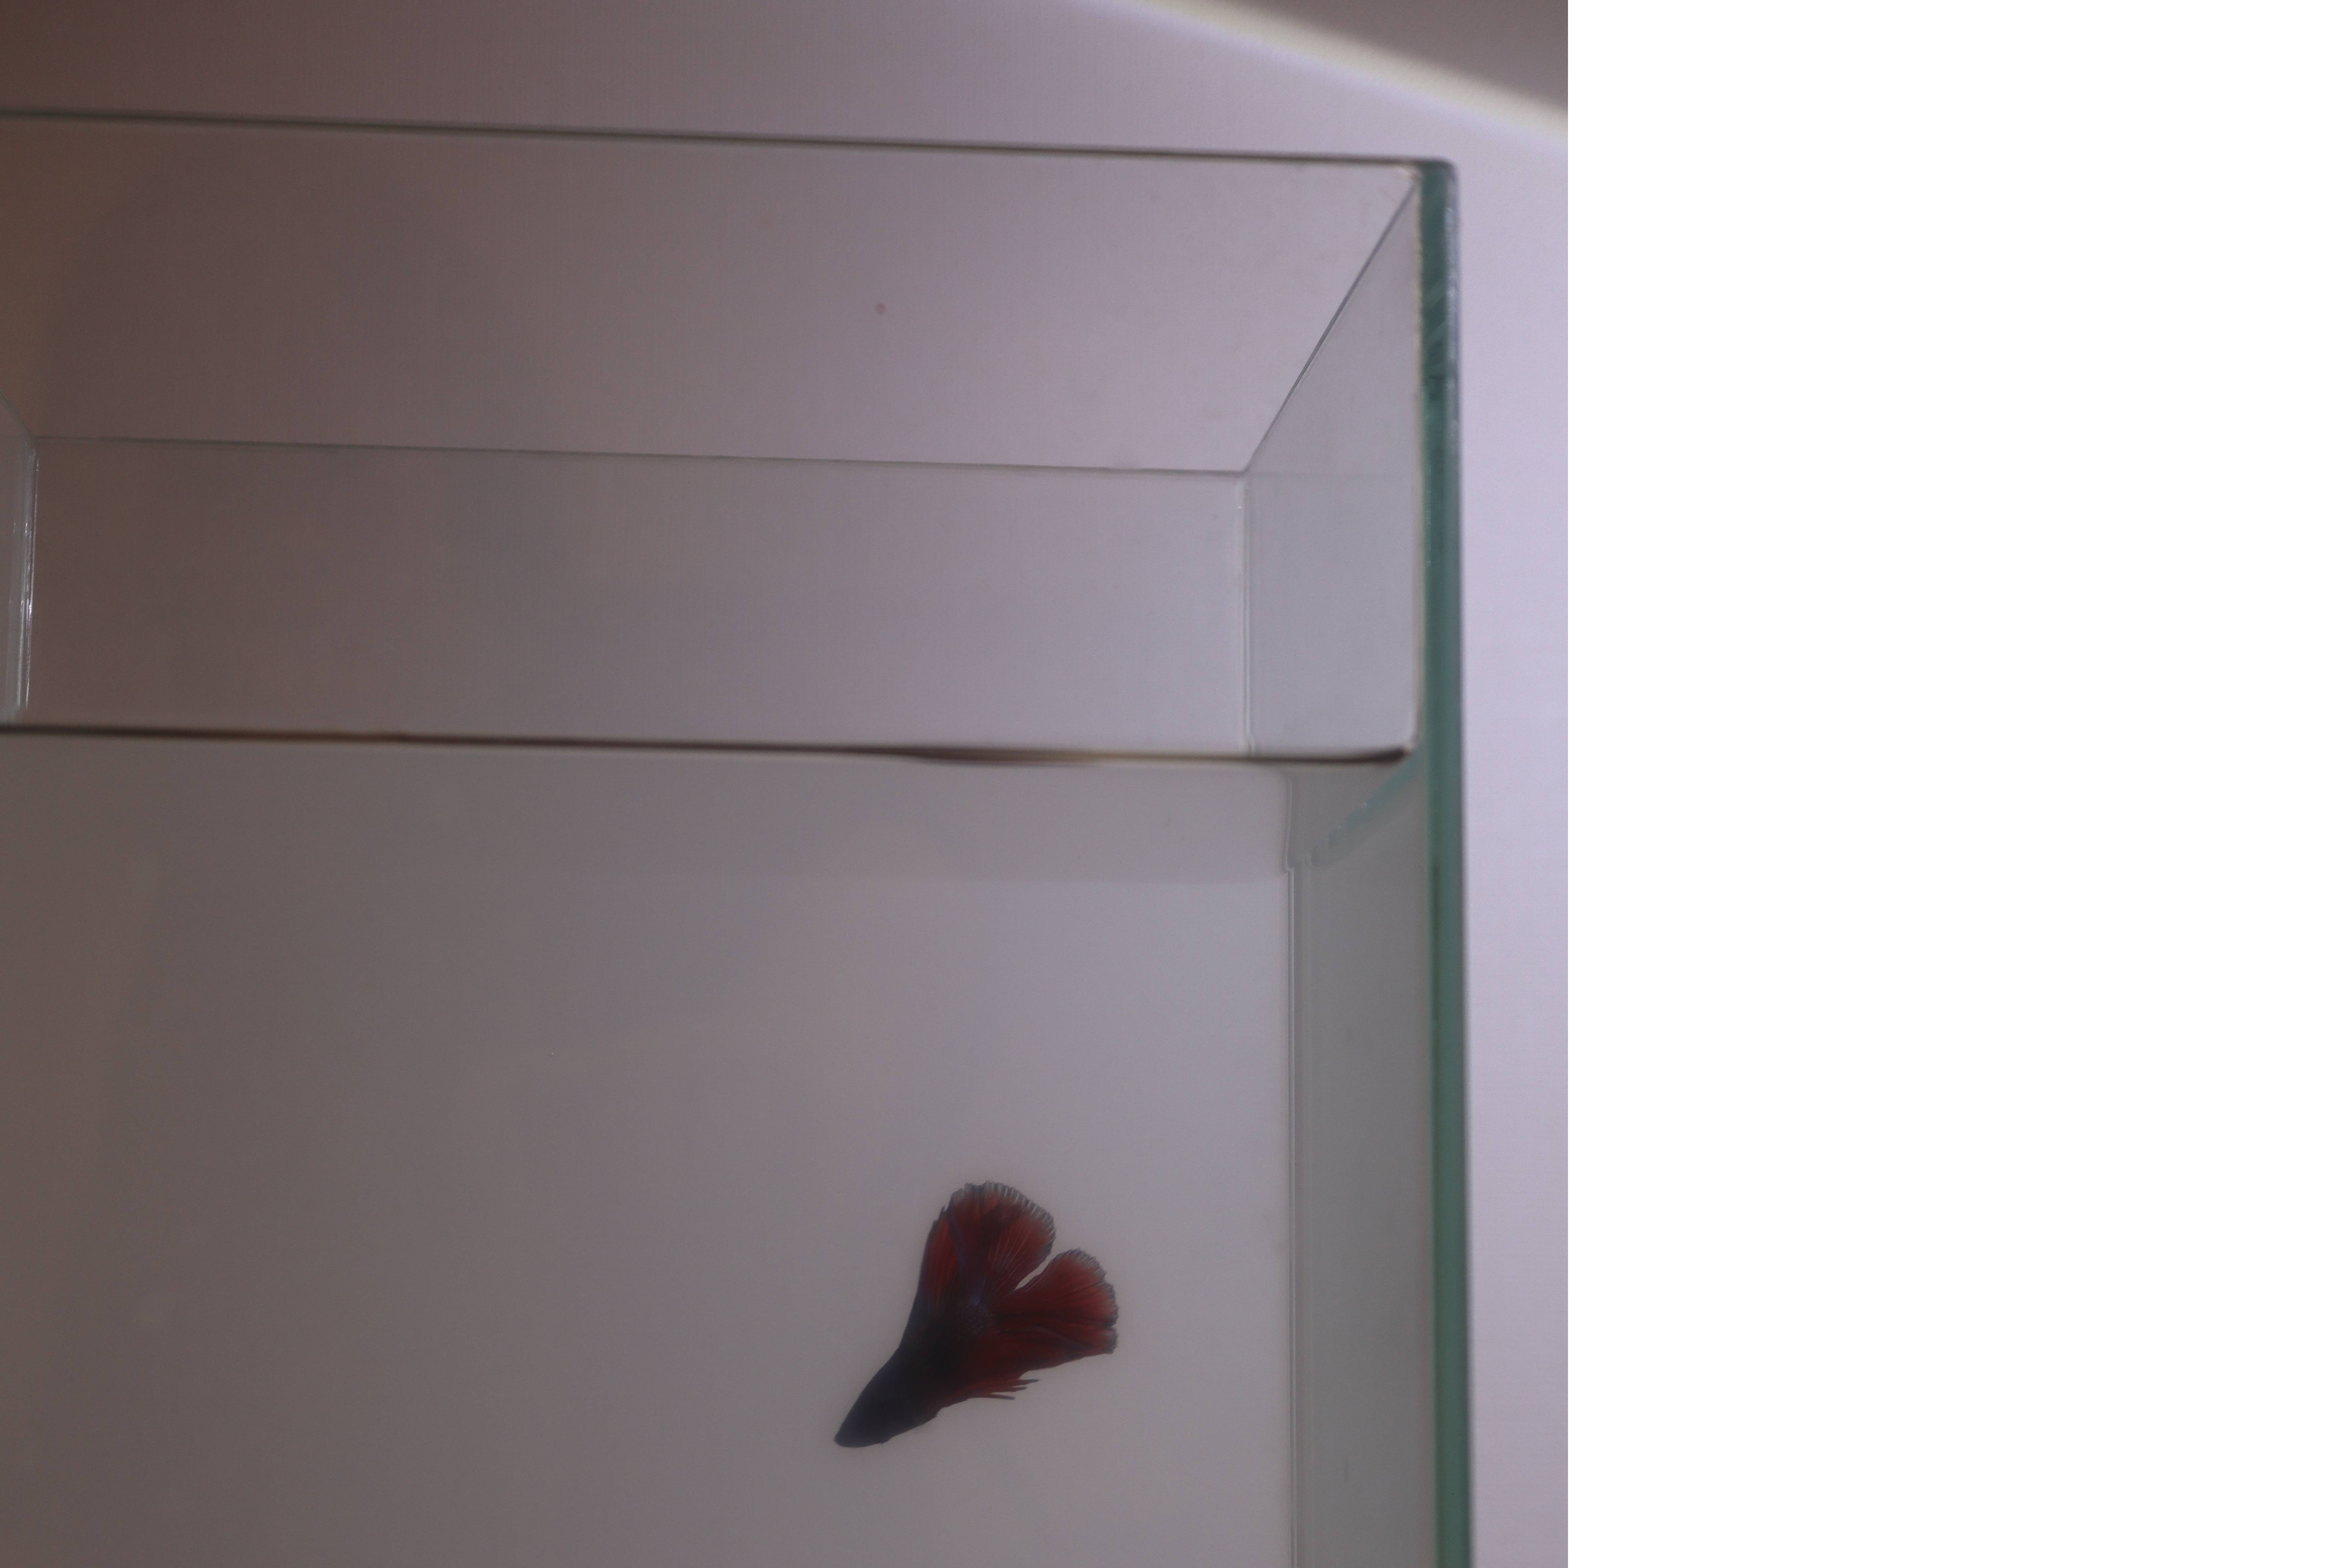fish: (830, 1171, 1120, 1472)
